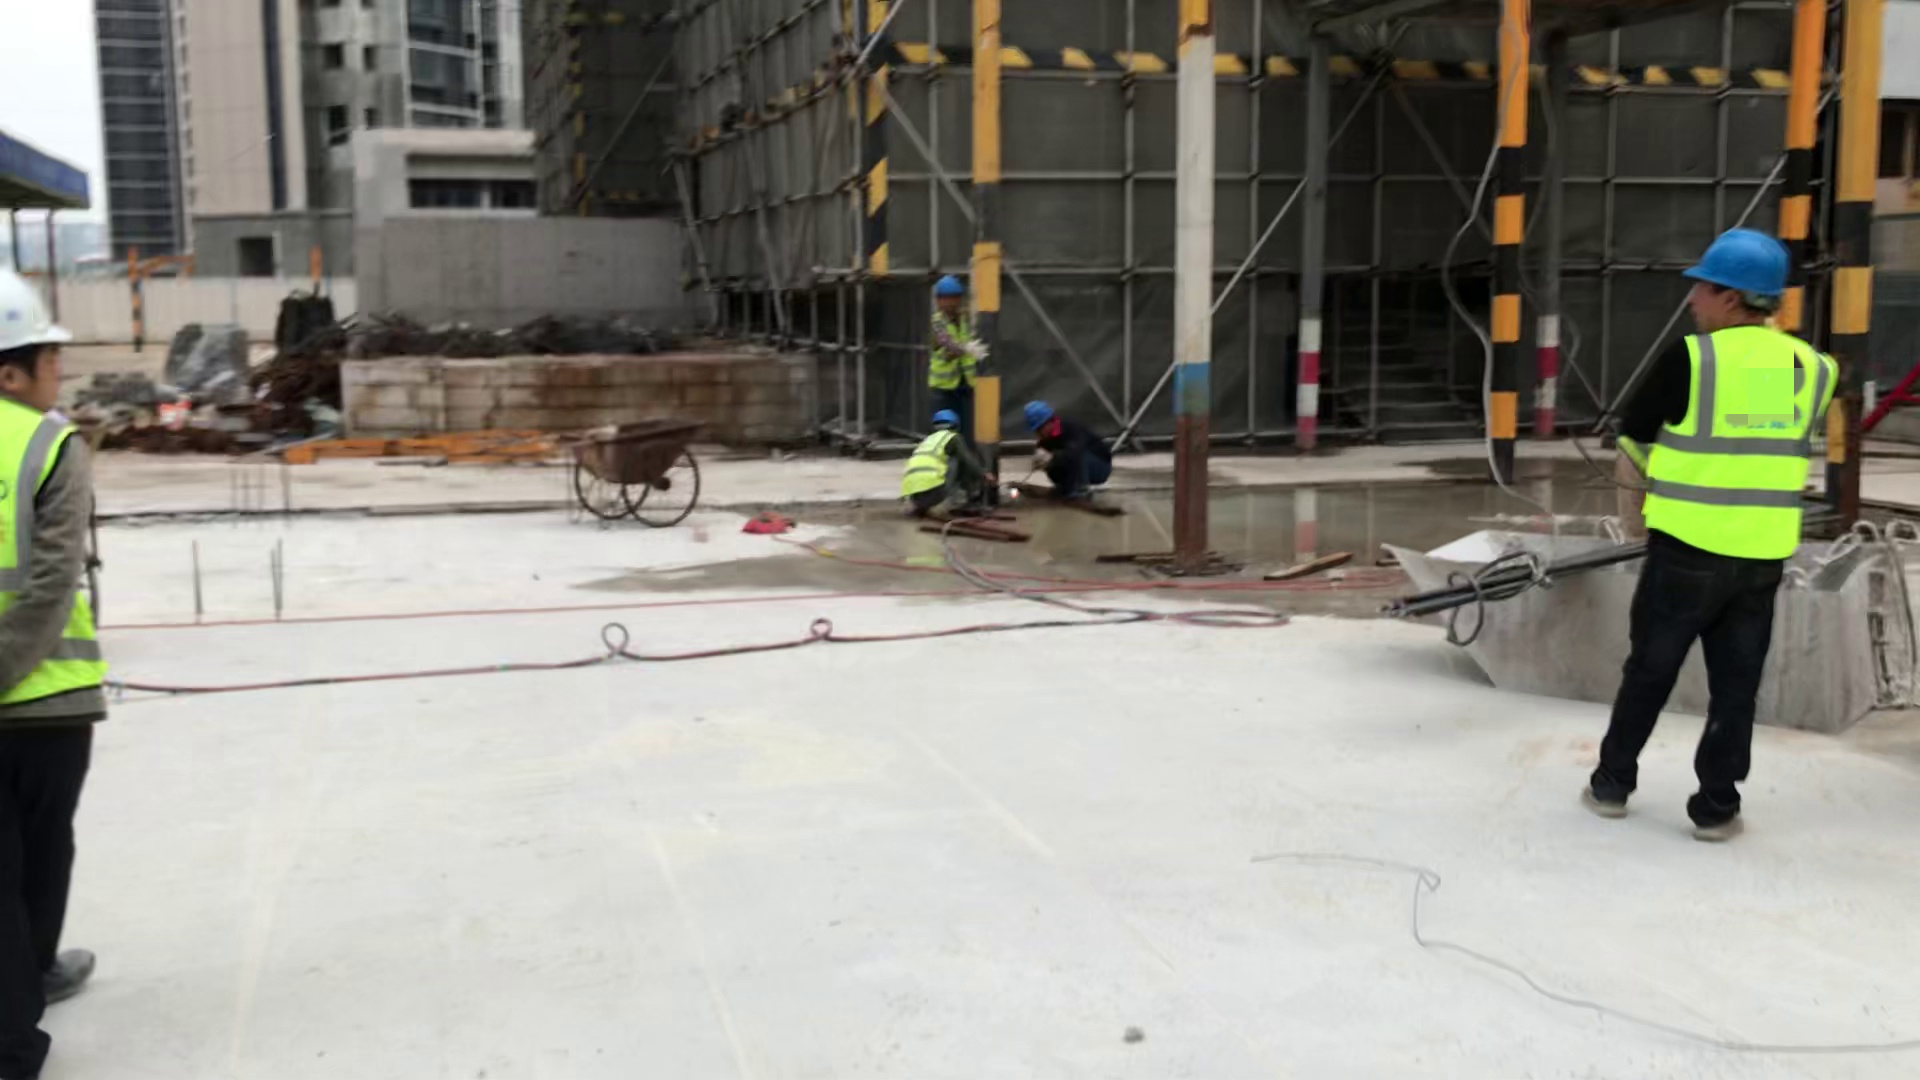handcart: (548, 393, 726, 538)
helmet: (1682, 222, 1805, 310), (1, 270, 90, 362), (924, 264, 971, 306), (925, 397, 969, 437), (1013, 393, 1058, 433)
hopper: (1387, 491, 1908, 738)
person: (1571, 176, 1828, 866), (1, 251, 138, 1080), (1008, 387, 1159, 550), (919, 260, 1013, 431), (901, 407, 1011, 549)
rebar: (1390, 542, 1635, 647)
vest: (1636, 316, 1851, 588), (2, 401, 130, 715), (897, 420, 974, 514), (917, 303, 987, 397)
